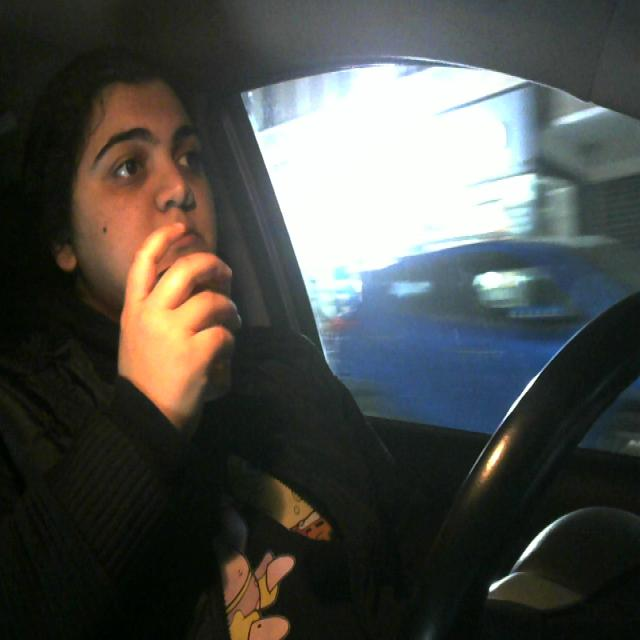drinking: (142, 259, 242, 409)
